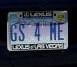4: (33, 22, 42, 42)
E: (57, 22, 65, 41)
G: (10, 23, 17, 42)
M: (48, 21, 57, 41)
S: (18, 23, 25, 42)
